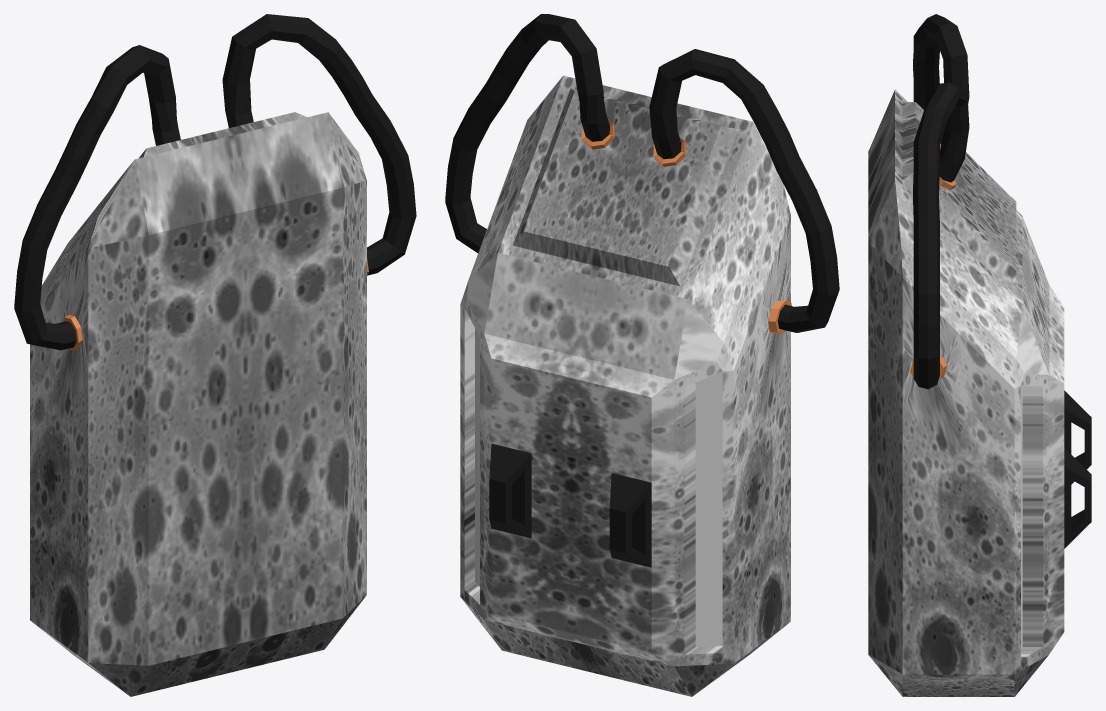
File: _layer bag.fbx
The picture shows the model from 3 angles, left to right: view 1: azimuth 30°, elevation 25°; view 2: azimuth 150°, elevation 25°; view 3: azimuth 270°, elevation 25°; orthographic projection. The views are drawn at different scales.
Parts seen in each view (by area): view 1: bag; view 2: bag; view 3: bag.
Part boxes in pixels (x1=…): bag: x1=14, y1=14, x2=416, y2=696; bag: x1=445, y1=14, x2=839, y2=696; bag: x1=868, y1=14, x2=1091, y2=696.
Bounding box in the file's own units: 553 × 828 × 280.
